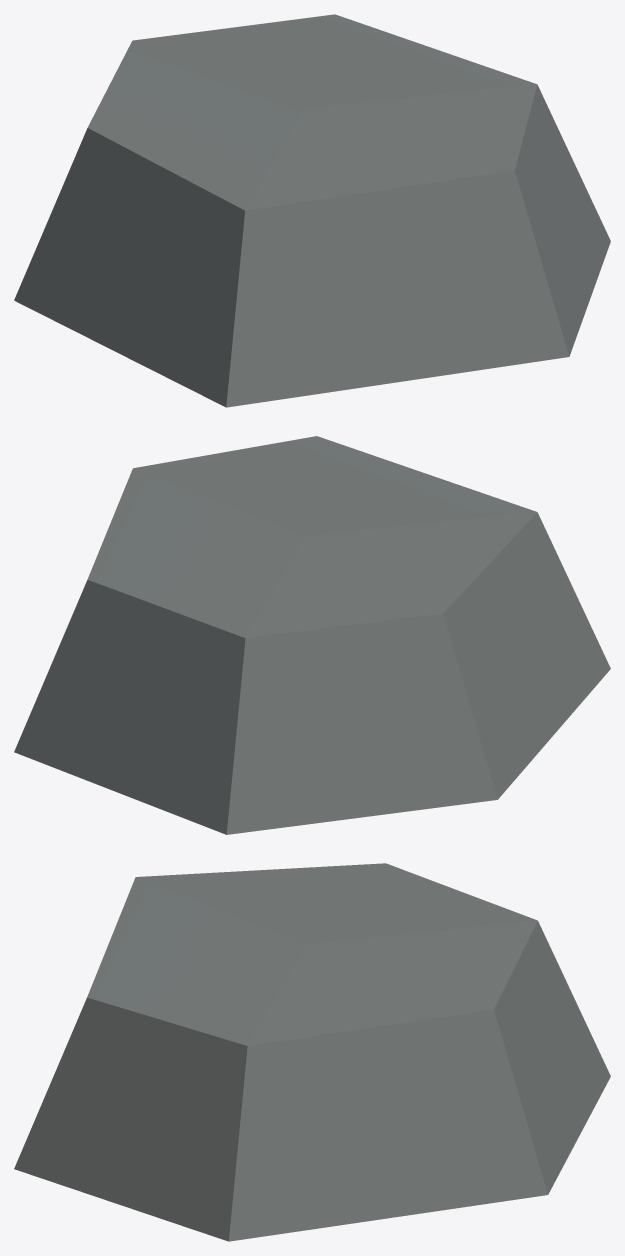
File: SM_Env_Western_Rock_02.glb
3 views of the same model, one above another, from view 1: azimuth 30°, elevation 25°; view 2: azimuth 150°, elevation 25°; view 3: azimuth 270°, elevation 25° (orthographic).
Parts seen in each view (by area): view 1: SM_Env_Western_Rock_02; view 2: SM_Env_Western_Rock_02; view 3: SM_Env_Western_Rock_02.
Boxes of the visible parts, x1,y1,x2,y2 form: SM_Env_Western_Rock_02: (14,14,610,407); SM_Env_Western_Rock_02: (14,436,610,834); SM_Env_Western_Rock_02: (14,863,610,1241).
Bounding box in the file's own units: 0.3817 × 0.1626 × 0.3908.
Materials: 1 (1 with a texture image).
